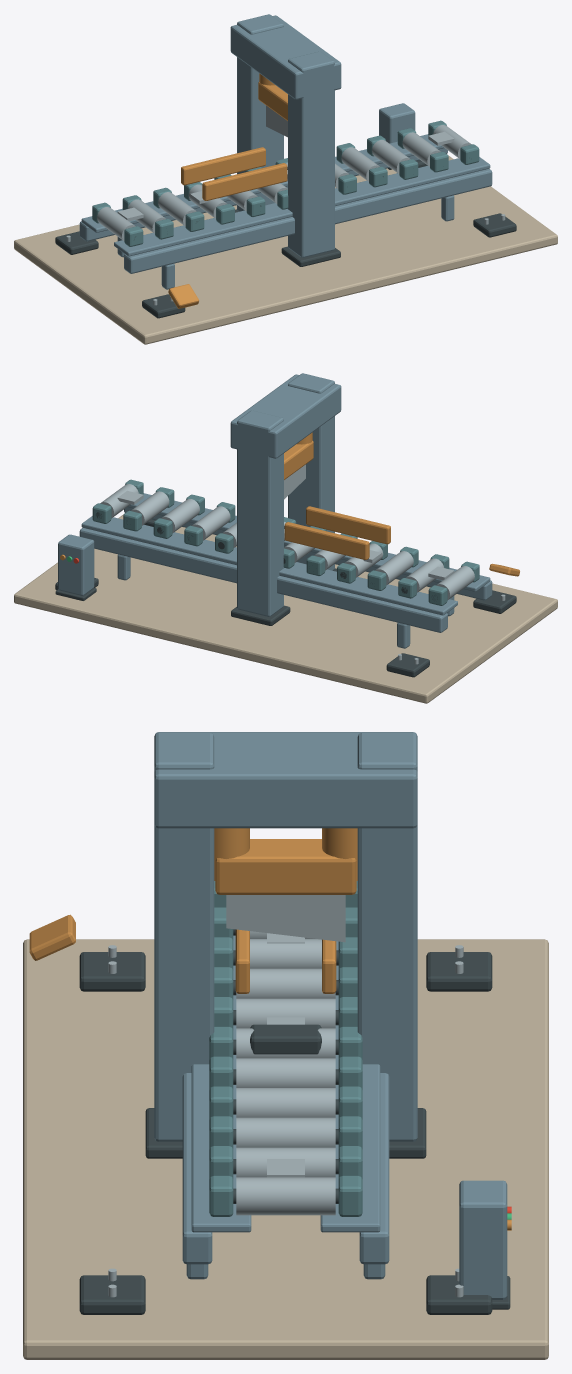
The model's file is CUT-BLOOM-lod1.glb.
The picture shows the model from 3 angles, top to bottom: view 1: azimuth 30°, elevation 25°; view 2: azimuth 150°, elevation 25°; view 3: azimuth 270°, elevation 25°; orthographic projection. The views are drawn at different scales.
Parts seen in each view (by area): view 1: foundation, shear_column_0.85, bed_side_0.74, bearing_seat_0.74, hydraulic_bridge, shear_column_-0.85, section_guide_1, section_guide_-1, control_cabinet, bearing_seat_-0.74, knife_crosshead, bed_side_-0.74 (+13 smaller); view 2: foundation, shear_column_-0.85, bed_side_-0.74, hydraulic_bridge, bearing_seat_-0.74, shear_column_0.85, control_cabinet, section_guide_-1, section_guide_1, bearing_seat_0.74, knife_crosshead, bed_side_0.74 (+10 smaller); view 3: foundation, hydraulic_bridge, shear_column_-0.85, shear_column_0.85, knife_crosshead, control_cabinet, section_shear_blade, bearing_seat_0.74, bearing_seat_-0.74, support_roll_11, support_roll_9, support_roll_7 (+30 smaller).
Part boxes in pixels (x1,y1,x2,y2): foundation: (14,155,557,344); shear_column_0.85: (288,51,334,257); bed_side_0.74: (124,169,492,273); bearing_seat_0.74: (114,157,490,256); hydraulic_bridge: (230,15,341,99); shear_column_-0.85: (237,14,283,211); section_guide_1: (202,163,287,200); section_guide_-1: (181,147,265,185); control_cabinet: (379,103,415,143); bearing_seat_-0.74: (81,134,443,232); knife_crosshead: (258,82,287,120); bed_side_-0.74: (79,148,447,241); foundation: (14,514,557,703); shear_column_-0.85: (237,410,283,616); bed_side_-0.74: (79,528,447,632); hydraulic_bridge: (230,374,341,458); bearing_seat_-0.74: (81,516,457,615); shear_column_0.85: (288,373,334,570); control_cabinet: (58,534,94,595); section_guide_-1: (284,522,369,559); section_guide_1: (306,506,390,544); bearing_seat_0.74: (128,493,490,591); knife_crosshead: (284,441,313,479); bed_side_0.74: (124,507,492,600); foundation: (23,939,548,1359); hydraulic_bridge: (154,732,417,828); shear_column_-0.85: (357,733,417,1141); shear_column_0.85: (154,733,214,1141); knife_crosshead: (215,839,356,894); control_cabinet: (459,1180,507,1299); section_shear_blade: (226,895,345,942); bearing_seat_0.74: (191,935,251,1232); bearing_seat_-0.74: (320,941,380,1232); support_roll_11: (236,1177,335,1215); support_roll_9: (236,1117,335,1147); support_roll_7: (236,1058,335,1087).
Size of the model in its own units: 8 by 3.82 by 4.4.
